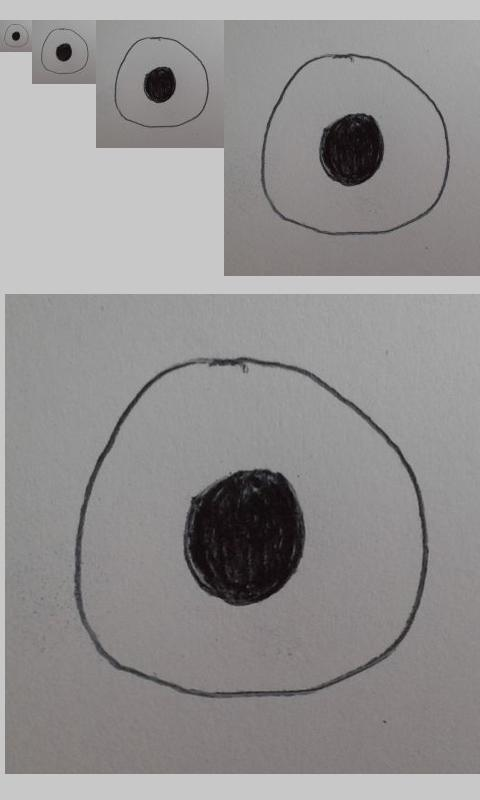radio_button: (70, 356, 431, 701), (259, 52, 451, 237), (113, 35, 210, 129), (40, 27, 90, 75), (3, 23, 29, 48)
